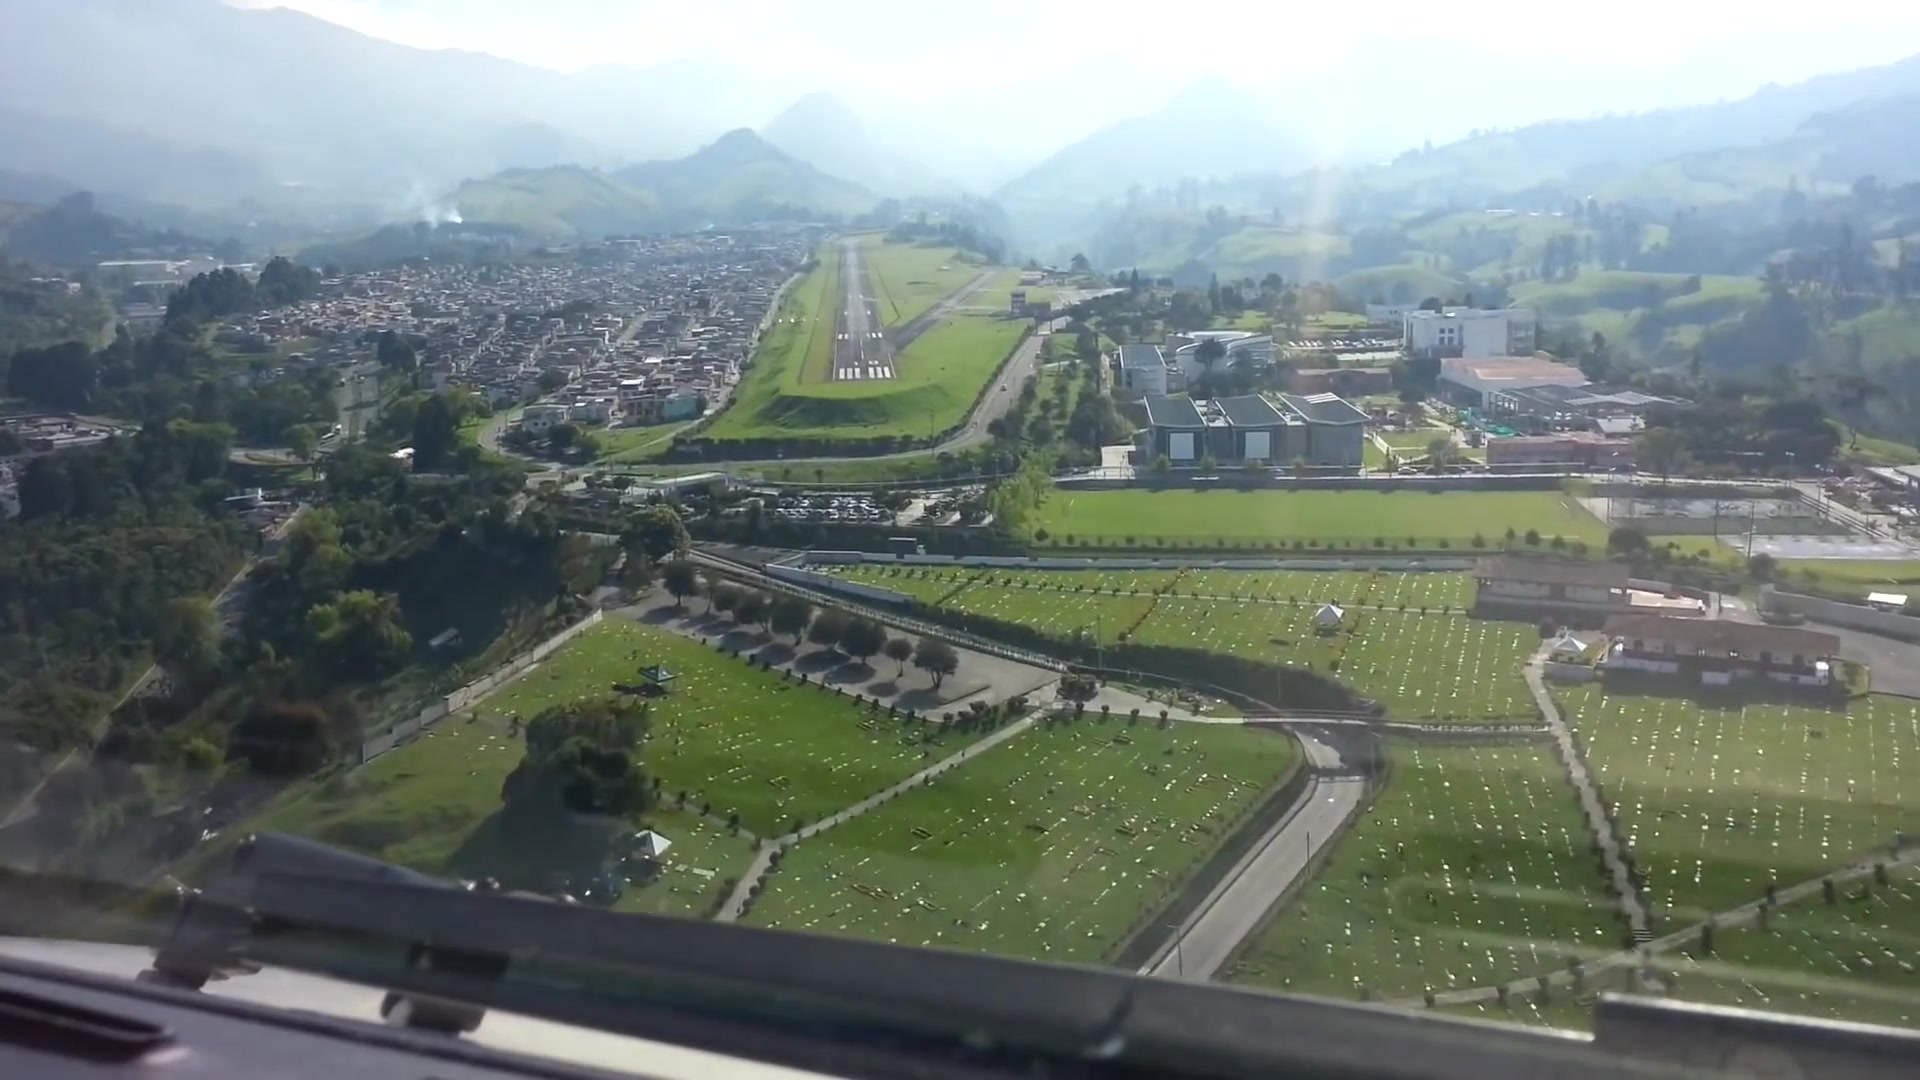entrance: (836, 365, 891, 378)
runway: (829, 240, 897, 382)
